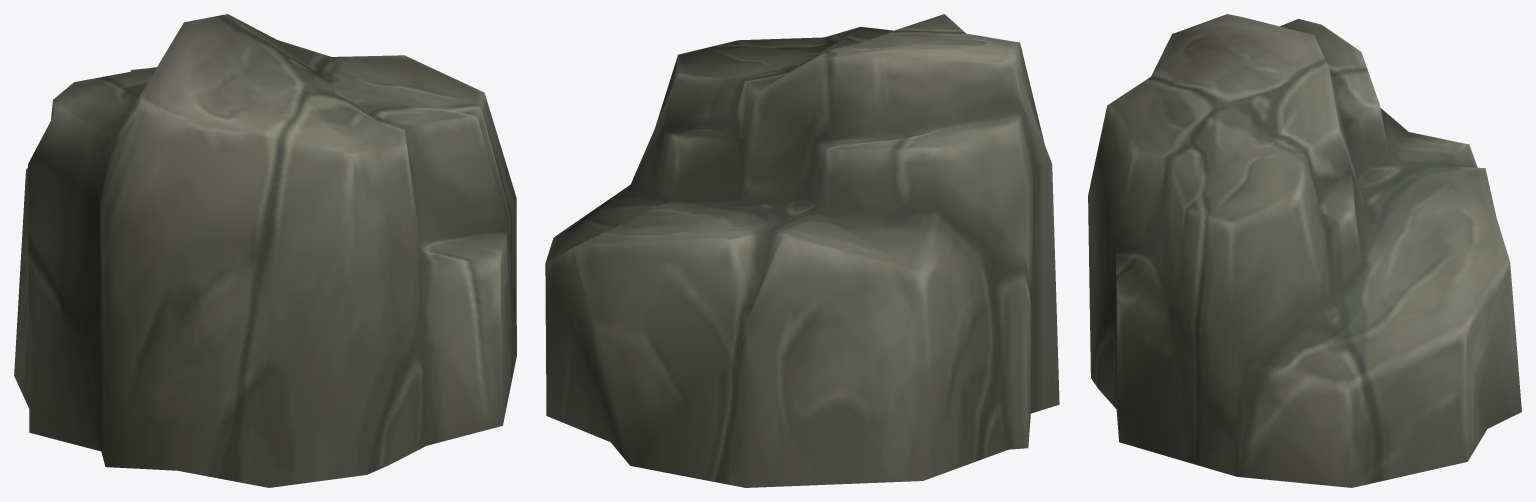
File: forget_Stone02.FBX
3 renders of one model, left to right at view 1: azimuth 30°, elevation 25°; view 2: azimuth 150°, elevation 25°; view 3: azimuth 270°, elevation 25°, orthographic. The views are drawn at different scales.
Visible parts, largest first — view 1: forget_Stone02; view 2: forget_Stone02; view 3: forget_Stone02.
Part boxes in pixels (x1,y1,x2,y2): forget_Stone02: (14,14,516,487); forget_Stone02: (545,14,1059,487); forget_Stone02: (1088,14,1521,487).
Size of the model in its own units: 310 by 233 by 286.
